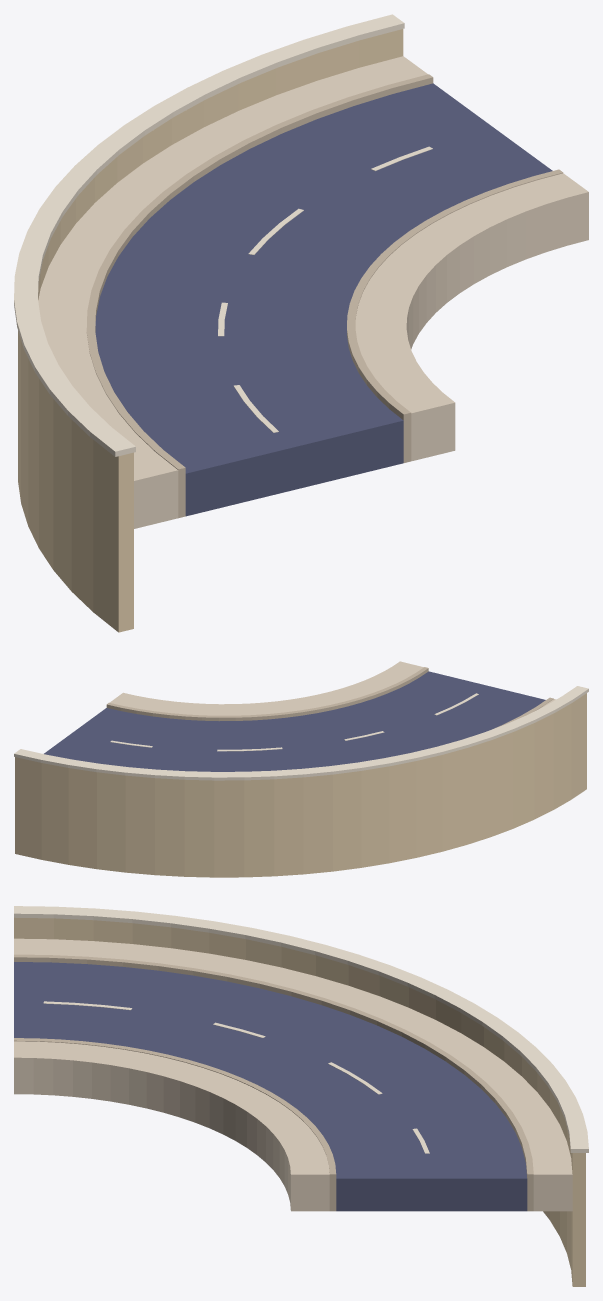
File: road_coast_curve.glb
3 renders of one model, top to bottom at view 1: azimuth 30°, elevation 25°; view 2: azimuth 150°, elevation 25°; view 3: azimuth 270°, elevation 25°, orthographic. The views are drawn at different scales.
Parts seen in each view (by area): view 1: road_coast_curve; view 2: road_coast_curve; view 3: road_coast_curve.
Part boxes in pixels (box(x1,y1,x2,y2)): road_coast_curve: box(14, 14, 588, 632); road_coast_curve: box(14, 661, 588, 877); road_coast_curve: box(14, 906, 588, 1286).
Size of the model in its own units: 19.27 by 5.1 by 19.27.
